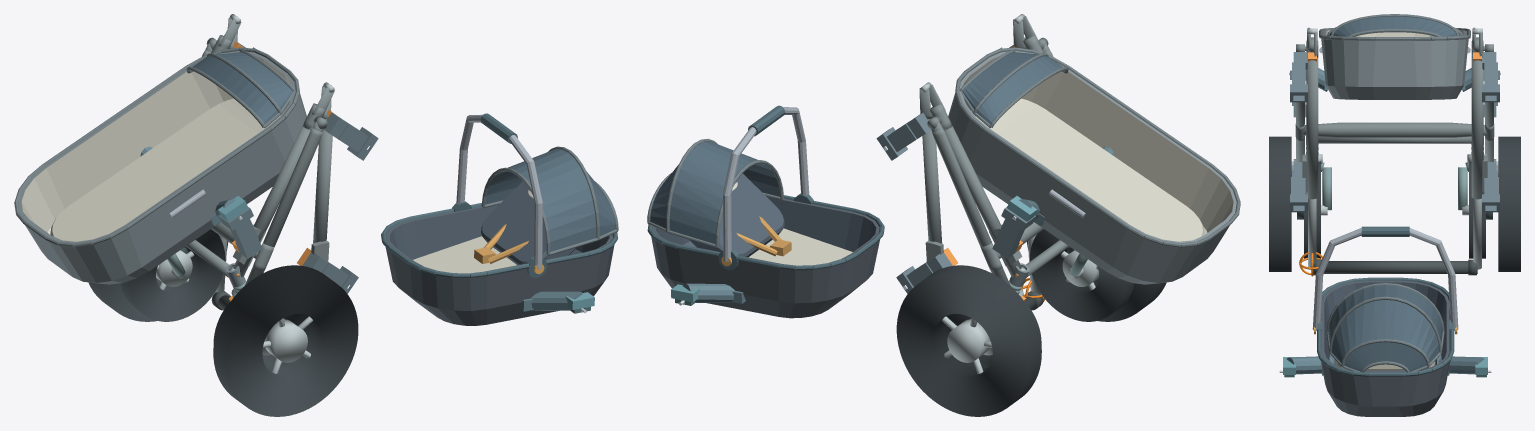
Rendered from D07_w550_state3_wheel_L.glb.
3 renders of one model, left to right at view 1: azimuth 30°, elevation 25°; view 2: azimuth 150°, elevation 25°; view 3: azimuth 270°, elevation 25°, orthographic. The views are drawn at different scales.
Visible parts, largest first — view 1: D07_Lower, D07_Upper, RL_tire.004, FR_tire.004, V46_rear_leg_-1.005, main_lower_-1.005, main_upper_-1.005, D07_Upper_Mount_H, RL_sealed_hub.004, Universal_Cabin_Receiver_M_-1, RR_tire.004, Universal_Cabin_Receiver_L_-1 (+3 smaller); view 2: D07_Lower, D07_Upper, RR_tire.004, FL_tire.004, V46_rear_leg_1.005, main_lower_1.005, main_upper_1.005, D07_Upper_Mount_H, RR_sealed_hub.004, Universal_Cabin_Receiver_M_1, RL_tire.004, Universal_Cabin_Receiver_L_1 (+3 smaller); view 3: D07_Upper, D07_Lower, RL_tire.004, RR_tire.004, V46_rearbar.005, round_handle.004, main_upper_1.005, main_upper_-1.005, D07_Upper_Mount_H, front_fixed_round_tube.004, Universal_Cabin_Receiver_M_1, Universal_Cabin_Receiver_M_-1 (+12 smaller).
Part boxes in pixels (x1=…): D07_Lower: x1=14, y1=47, x2=306, y2=284; D07_Upper: x1=381, y1=113, x2=618, y2=325; RL_tire.004: x1=213, y1=265, x2=358, y2=416; FR_tire.004: x1=121, y1=229, x2=225, y2=321; V46_rear_leg_-1.005: x1=244, y1=128, x2=322, y2=285; main_lower_-1.005: x1=233, y1=124, x2=314, y2=277; main_upper_-1.005: x1=313, y1=119, x2=332, y2=243; D07_Upper_Mount_H: x1=519, y1=291, x2=594, y2=313; RL_sealed_hub.004: x1=264, y1=319, x2=307, y2=362; Universal_Cabin_Receiver_M_-1: x1=324, y1=112, x2=378, y2=160; RR_tire.004: x1=88, y1=241, x2=228, y2=321; Universal_Cabin_Receiver_L_-1: x1=219, y1=207, x2=262, y2=258; D07_Lower: x1=948, y1=47, x2=1240, y2=284; D07_Upper: x1=647, y1=105, x2=884, y2=318; RR_tire.004: x1=896, y1=265, x2=1041, y2=416; FL_tire.004: x1=1030, y1=229, x2=1134, y2=321; V46_rear_leg_1.005: x1=932, y1=128, x2=1010, y2=285; main_lower_1.005: x1=941, y1=124, x2=1021, y2=277; main_upper_1.005: x1=922, y1=119, x2=942, y2=243; D07_Upper_Mount_H: x1=671, y1=283, x2=745, y2=305; RR_sealed_hub.004: x1=947, y1=319, x2=990, y2=362; Universal_Cabin_Receiver_M_1: x1=876, y1=113, x2=930, y2=160; RL_tire.004: x1=1027, y1=241, x2=1166, y2=321; Universal_Cabin_Receiver_L_1: x1=992, y1=207, x2=1035, y2=258; D07_Upper: x1=1312, y1=226, x2=1458, y2=416; D07_Lower: x1=1319, y1=14, x2=1470, y2=99; RL_tire.004: x1=1269, y1=136, x2=1291, y2=271; RR_tire.004: x1=1498, y1=136, x2=1520, y2=271; V46_rearbar.005: x1=1303, y1=122, x2=1486, y2=137; round_handle.004: x1=1323, y1=261, x2=1477, y2=273; main_upper_1.005: x1=1471, y1=57, x2=1483, y2=199; main_upper_-1.005: x1=1306, y1=57, x2=1318, y2=199; D07_Upper_Mount_H: x1=1279, y1=354, x2=1491, y2=377; front_fixed_round_tube.004: x1=1318, y1=136, x2=1471, y2=143; Universal_Cabin_Receiver_M_1: x1=1482, y1=52, x2=1499, y2=102; Universal_Cabin_Receiver_M_-1: x1=1290, y1=52, x2=1307, y2=102.
Size of the model in its own units: 1.53 by 0.7725 by 0.671.
